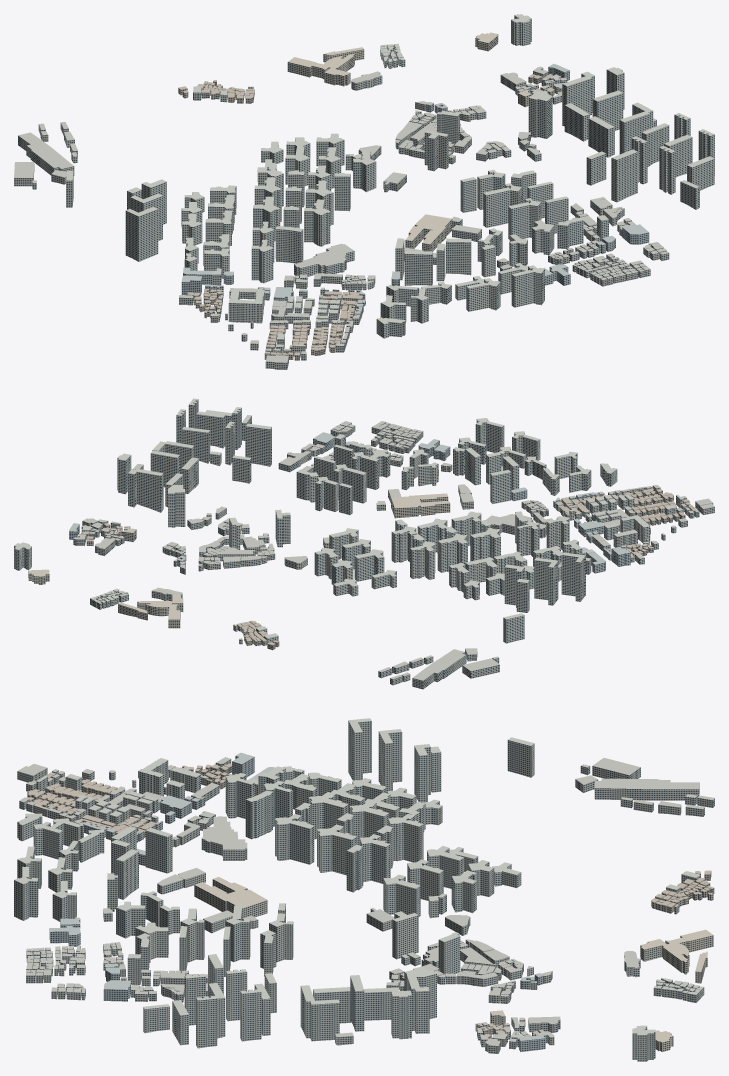
The model's file is city_3_-4.glb.
3 views of the same model, one above another, from view 1: azimuth 30°, elevation 25°; view 2: azimuth 150°, elevation 25°; view 3: azimuth 270°, elevation 25° (orthographic). The views are drawn at different scales.
Bounding box in the file's own units: 1029 × 109 × 1020.
5 materials, 5 textured.
